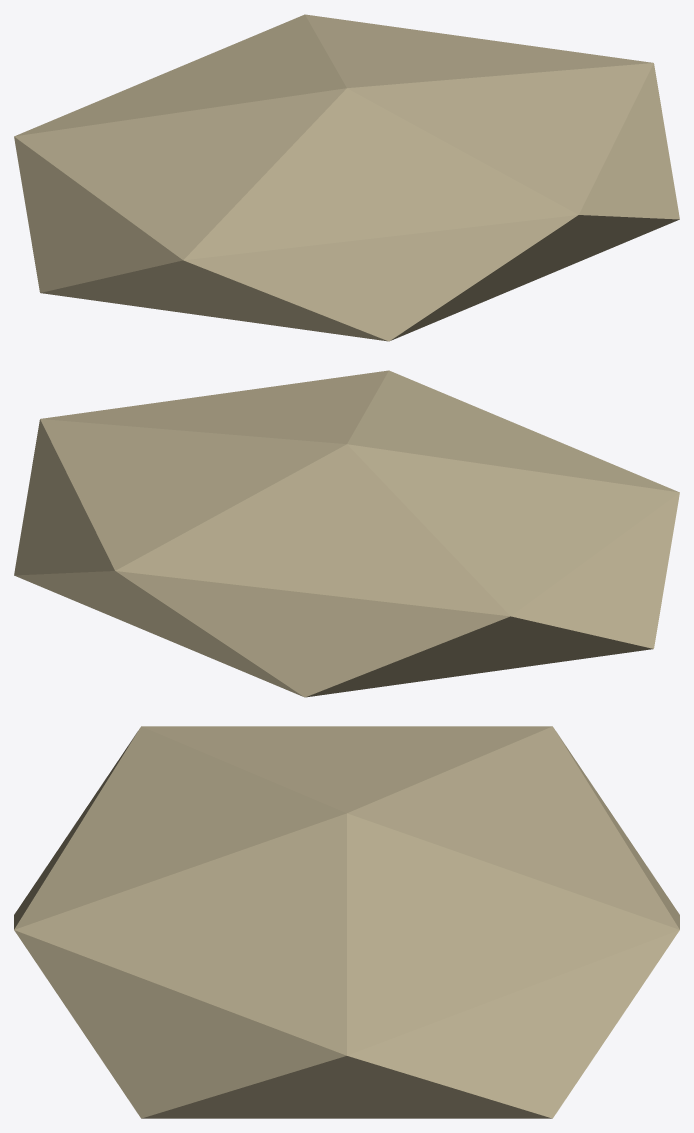
Rendered from path_stone.glb.
3 views of the same model, one above another, from view 1: azimuth 30°, elevation 25°; view 2: azimuth 150°, elevation 25°; view 3: azimuth 270°, elevation 25° (orthographic). The views are drawn at different scales.
Visible parts, largest first — view 1: path_stone; view 2: path_stone; view 3: path_stone.
Part boxes in pixels (box(x1,y1,x2,y2)): path_stone: box(14, 14, 679, 341); path_stone: box(14, 370, 679, 697); path_stone: box(14, 726, 679, 1118).
Size of the model in its own units: 0.2862 by 0.08 by 0.2212.
